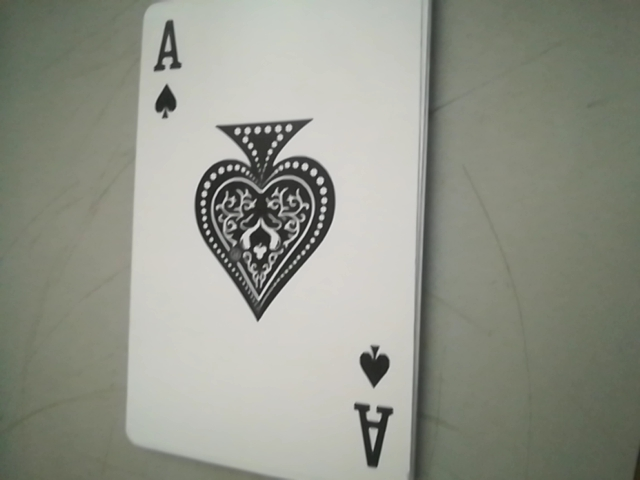ht a: (354, 335, 403, 471)
